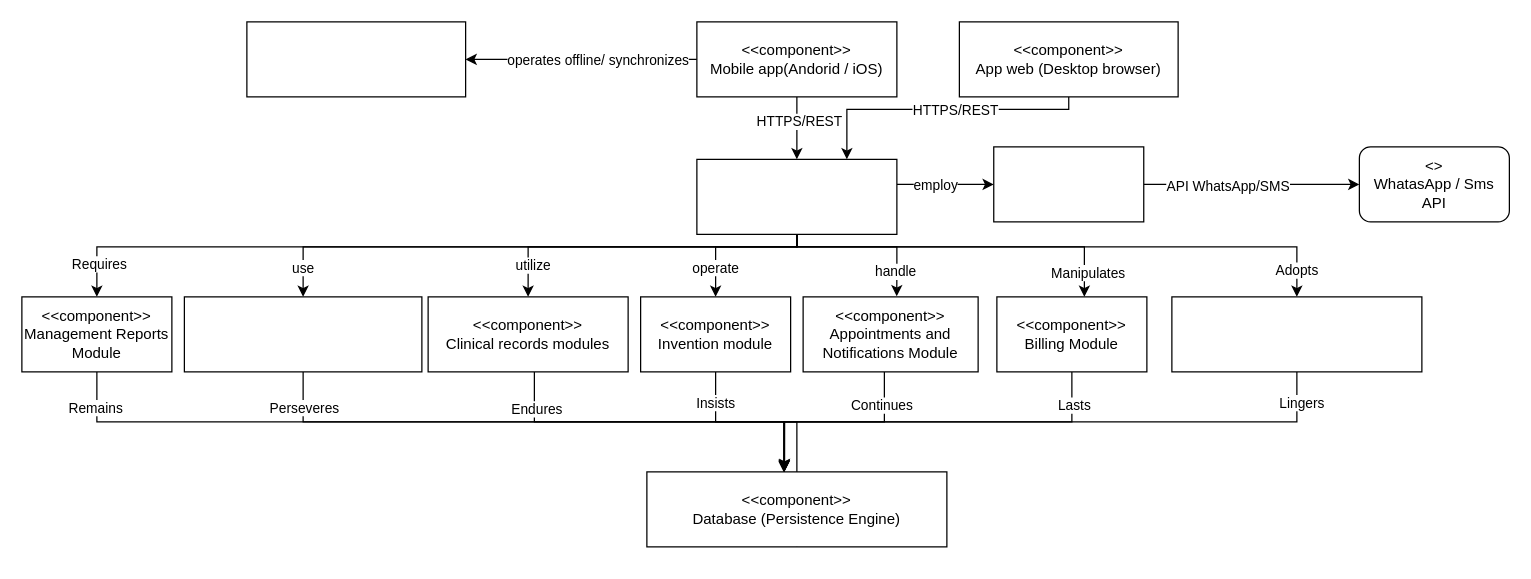
The diagram is 1531 pixels wide and 579 high, and some of its shapes have lost their labels. The box of each missing label's shape, as (x1, y1, x2, y2) in pixels:
<<component>> AI Module (Diagnostic Suggestions): (1171, 296, 1422, 372)
<<component>> Api Gateway/ Backend Rest: (696, 158, 897, 234)
<<component>> Authentication and RBAC Module: (183, 296, 422, 372)
<<component>> Communications Module: (992, 146, 1144, 222)
<<component>> Synchronization Module offline: (246, 21, 466, 97)
